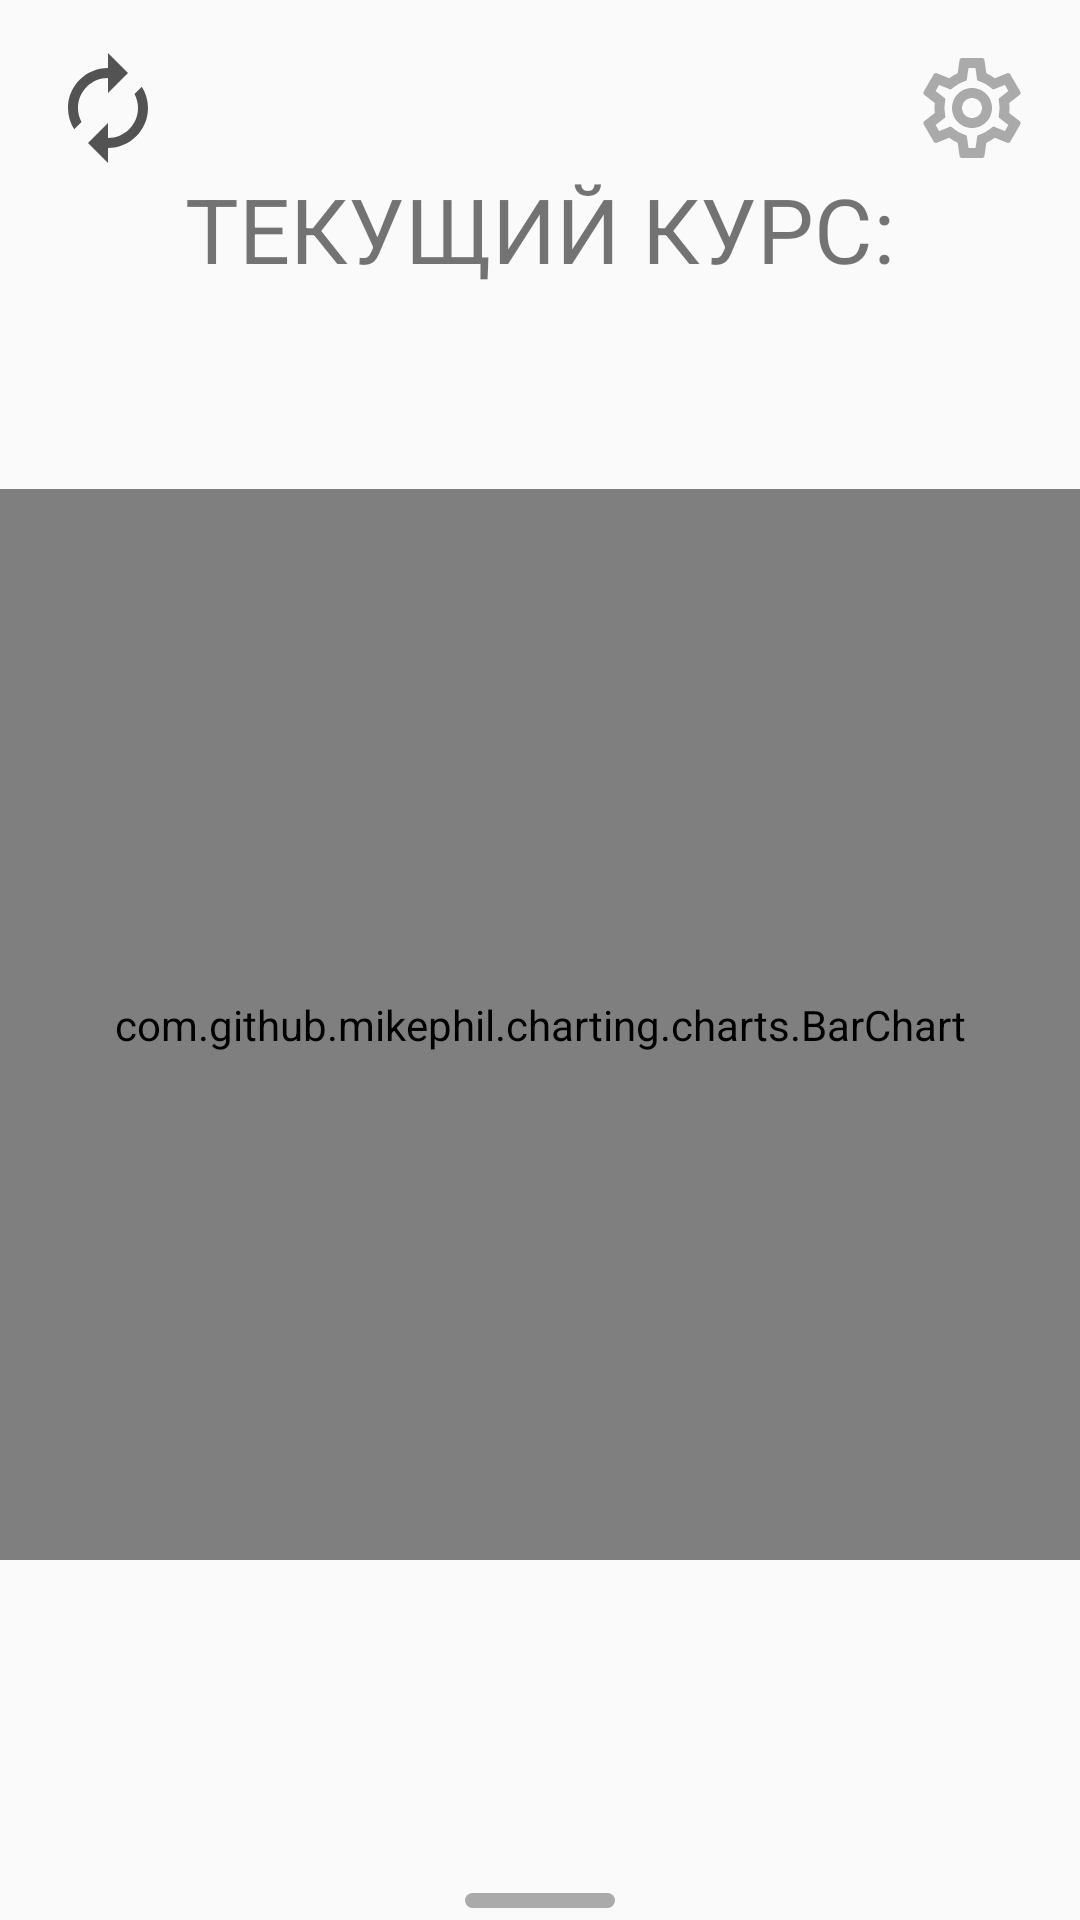

Named icons in this screenshot (1080w x 1920h) and their centers, point (x, y):
setting: point (972, 108)
